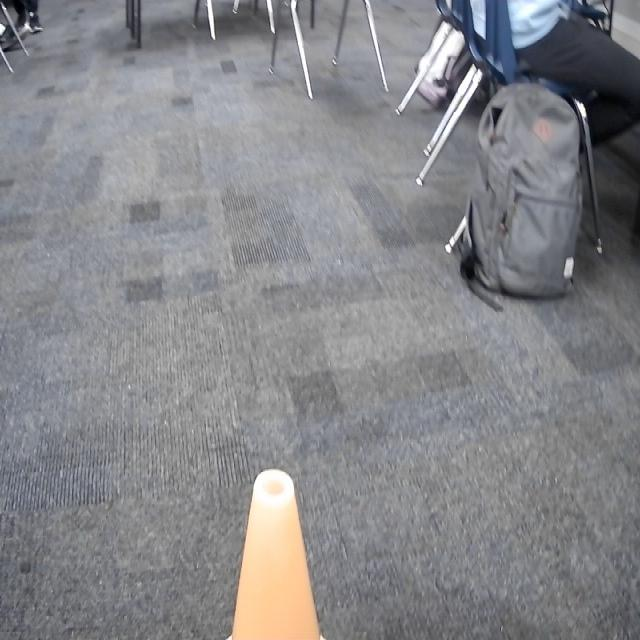cone: (223, 462, 324, 640)
